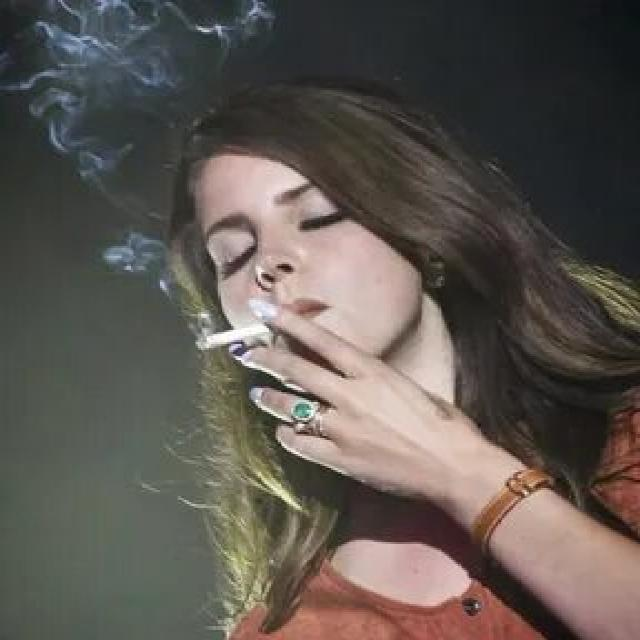cigarette: (194, 312, 282, 358)
